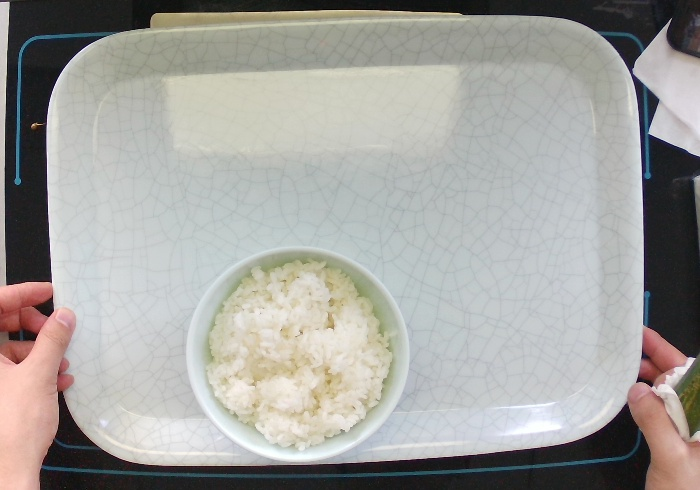JYsf-Fan_Wan: (178, 237, 412, 468)
